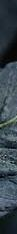Tomato leaf late blight: (0, 41, 17, 226)
